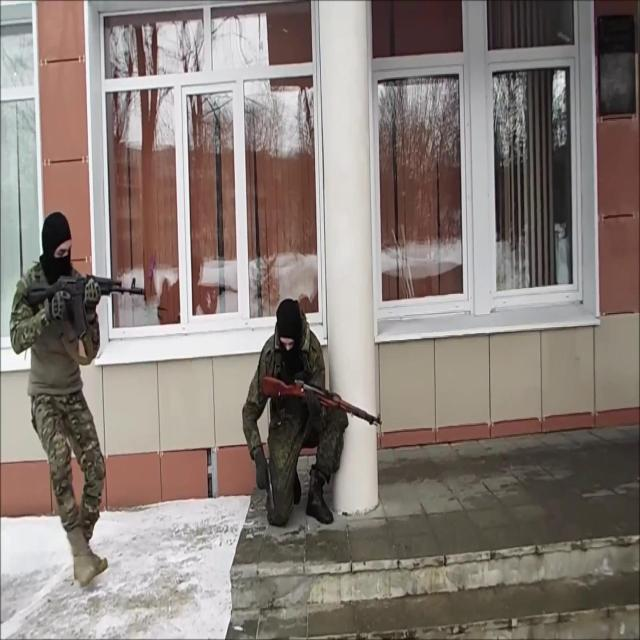pistol: (27, 270, 146, 342), (262, 370, 384, 430), (253, 460, 277, 514)
